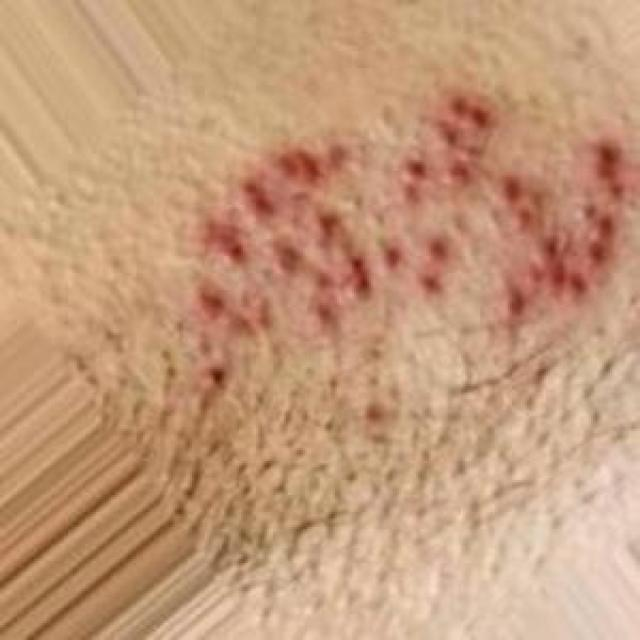Shingles: (186, 91, 631, 315)
